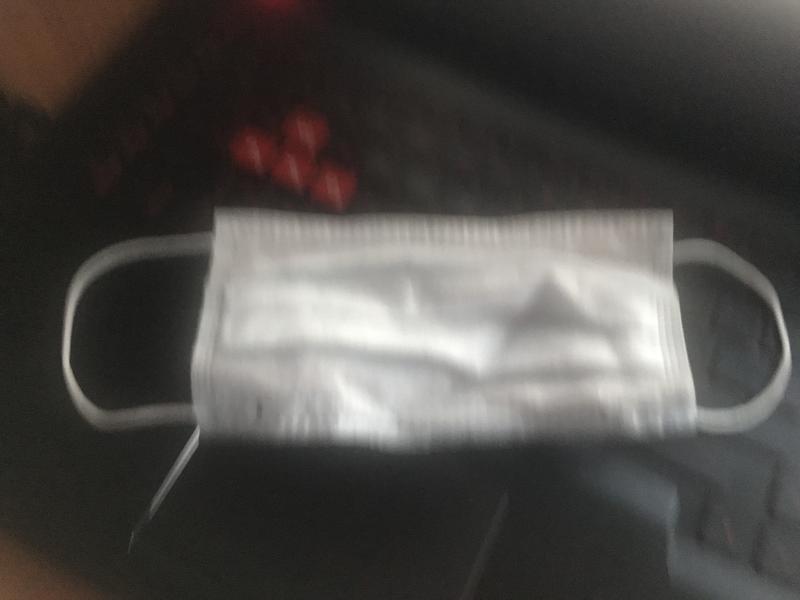medical_mask: (62, 209, 792, 440)
